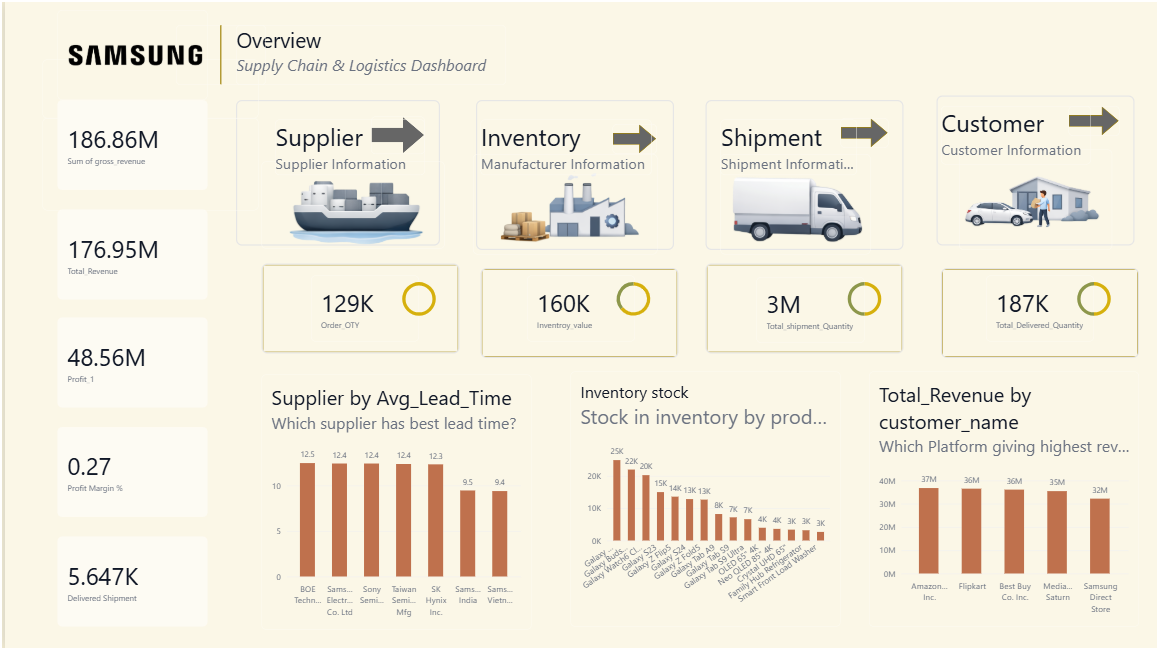

What the dashboard file says about the page in this screenshot:
{"tool":"powerbi","page":{"name":"Page 1","canvas":[1920,1080],"ordinal":0},"visuals":[{"type":"shape","box":[1560,445,330,150],"z":0},{"type":"shape","box":[385,165,340,242.5],"z":1000},{"type":"shape","box":[785,165,330,250],"z":2000},{"type":"shape","box":[1552.5,157.5,330,250],"z":3000},{"type":"shape","box":[1167.5,165,330,250],"z":4000},{"type":"image","box":[427.5,267.5,305,145],"z":5000},{"type":"image","box":[1590,247.5,255,167.5],"z":6000},{"type":"image","box":[1192.5,255,250,167.5],"z":7000},{"type":"image","box":[780,255,307.5,167.5],"z":8000},{"type":"shape","box":[610,192.5,90,62.5],"z":9000},{"type":"shape","box":[1772.5,175,85,50],"z":10000},{"type":"shape","box":[1012.5,205,74,50.1],"z":11000},{"type":"shape","box":[1392.5,195,80,50],"z":12000},{"type":"textbox","box":[62,97.8,360.3,97.8],"z":13000},{"type":"textbox","title":"Supplier","box":[450,197.5,250,92.5],"z":14000},{"type":"textbox","box":[62,196,360,154],"z":15000},{"type":"textbox","title":"Inventory","box":[792.5,197.5,285,92.5],"z":16000},{"type":"textbox","title":"Shipment","box":[1192.5,197.5,227.5,92.5],"z":17000},{"type":"textbox","title":"Customer","box":[1560,175,250,97.5],"z":18000},{"type":"textbox","title":"Overview","box":[384.1,40.6,450,100],"z":19000},{"type":"shape","box":[283.9,40.6,150,100],"z":20000},{"type":"image","box":[88.3,14.3,250,150],"z":21000},{"type":"cardVisual","fields":{"Data":["fact_sales.Total_Revenue"]},"box":[88.3,346.6,250,150],"z":22000},{"type":"cardVisual","fields":{"Data":["fact_sales.Profit_1"]},"box":[88.3,528.5,250,150],"z":23000},{"type":"cardVisual","fields":{"Data":["fact_sales.Profit Margin %"]},"box":[88.3,710.4,250,150],"z":24000},{"type":"cardVisual","fields":{"Data":["fact_sales.Delivered_Order %"]},"box":[88.3,892.3,250,150],"z":25000},{"type":"cardVisual","fields":{"Data":["Sum(fact_sales.gross_revenue)"]},"box":[88.3,164.6,250,150],"z":26000},{"type":"shape","box":[427.5,437.5,330,150],"z":27000},{"type":"cardVisual","fields":{"Data":["fact_sales.Order_OTY"]},"box":[510,457.5,180,110],"z":28000},{"type":"shape","box":[792.5,445,330,150],"z":29000},{"type":"shape","box":[1167.5,437.5,330,150],"z":30000},{"type":"cardVisual","fields":{"Data":["fact_sales.Inventroy_value"]},"box":[870,457.5,180,110],"z":31000},{"type":"cardVisual","fields":{"Data":["fact_sales.Total_shipment_Quantity"]},"box":[1252.5,460,180,110],"z":32000},{"type":"cardVisual","fields":{"Data":["fact_sales.Total_Delivered_Quantity"]},"box":[1635,457.5,180,110],"z":33000},{"type":"columnChart","title":"Supplier by Avg_Lead_Time","fields":{"Y":["fact_sales.Avg_Lead_Time"],"Category":["dim_supplier.supplier_name"]},"box":[427.5,622.5,450,425],"z":34000},{"type":"clusteredColumnChart","title":"Inventory stock","fields":{"Y":["fact_sales.Inventroy_value"],"Category":["dim_product.product_name"]},"box":[942.5,617.5,450,425],"z":35000},{"type":"clusteredColumnChart","fields":{"Category":["dim_customer.customer_name"],"Y":["fact_sales.Total_Revenue"]},"box":[1440,617.5,450,425],"z":36000},{"type":"donutChart","fields":{"Y":["fact_sales.Inventroy_value","fact_production.Safety_Stocks"]},"box":[972.5,447.5,150,100],"z":37000},{"type":"donutChart","fields":{"Y":["fact_sales.Total_shipment_Quantity","fact_production.Total_Shipment_Quantity_1"]},"box":[1357.5,447.5,150,100],"z":37001},{"type":"donutChart","fields":{"Y":["fact_sales.Total_Delivered_Quantity","fact_sales.Total_sales_Quantity"]},"box":[1740,447.5,150,100],"z":37002},{"type":"donutChart","fields":{"Y":["fact_sales.Order_OTY"]},"box":[615,447.5,150,100],"z":37003}]}

Visuals, with their boxes in screenshot pixels (x1, y1, x2, y2), scaled from the page's 1920x1080 canvas onto the 1159x650 screenshot:
shape: l=942, t=268, r=1141, b=358
shape: l=232, t=99, r=438, b=245
shape: l=474, t=99, r=673, b=250
shape: l=937, t=95, r=1136, b=245
shape: l=705, t=99, r=904, b=250
image: l=258, t=161, r=442, b=248
image: l=960, t=149, r=1114, b=250
image: l=720, t=153, r=871, b=254
image: l=471, t=153, r=656, b=254
shape: l=368, t=116, r=423, b=153
shape: l=1070, t=105, r=1121, b=135
shape: l=611, t=123, r=656, b=154
shape: l=841, t=117, r=889, b=147
textbox: l=37, t=59, r=255, b=118
"Supplier" textbox: l=272, t=119, r=423, b=175
textbox: l=37, t=118, r=255, b=211
"Inventory" textbox: l=478, t=119, r=650, b=175
"Shipment" textbox: l=720, t=119, r=857, b=175
"Customer" textbox: l=942, t=105, r=1093, b=164
"Overview" textbox: l=232, t=24, r=504, b=85
shape: l=171, t=24, r=262, b=85
image: l=53, t=9, r=204, b=99
cardVisual - fact_sales.Total_Revenue: l=53, t=209, r=204, b=299
cardVisual - fact_sales.Profit_1: l=53, t=318, r=204, b=408
cardVisual - fact_sales.Profit Margin %: l=53, t=428, r=204, b=518
cardVisual - fact_sales.Delivered_Order %: l=53, t=537, r=204, b=627
cardVisual - Sum(fact_sales.gross_revenue): l=53, t=99, r=204, b=189
shape: l=258, t=263, r=457, b=354
cardVisual - fact_sales.Order_OTY: l=308, t=275, r=417, b=342
shape: l=478, t=268, r=678, b=358
shape: l=705, t=263, r=904, b=354
cardVisual - fact_sales.Inventroy_value: l=525, t=275, r=634, b=342
cardVisual - fact_sales.Total_shipment_Quantity: l=756, t=277, r=865, b=343
cardVisual - fact_sales.Total_Delivered_Quantity: l=987, t=275, r=1096, b=342
"Supplier by Avg_Lead_Time" columnChart: l=258, t=375, r=530, b=630
"Inventory stock" clusteredColumnChart: l=569, t=372, r=841, b=627
clusteredColumnChart - dim_customer.customer_name x fact_sales.Total_Revenue: l=869, t=372, r=1141, b=627
donutChart - fact_sales.Inventroy_value x fact_production.Safety_Stocks: l=587, t=269, r=678, b=330
donutChart - fact_sales.Total_shipment_Quantity x fact_production.Total_Shipment_Quantity_1: l=819, t=269, r=910, b=330
donutChart - fact_sales.Total_Delivered_Quantity x fact_sales.Total_sales_Quantity: l=1050, t=269, r=1141, b=330
donutChart - fact_sales.Order_OTY: l=371, t=269, r=462, b=330
